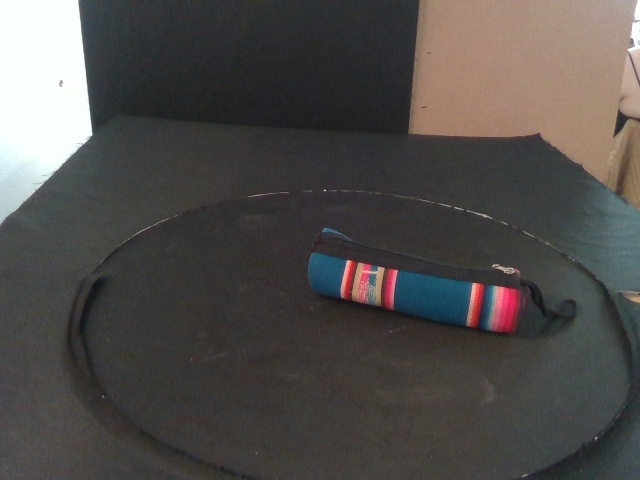pencil_case: (307, 227, 525, 336)
